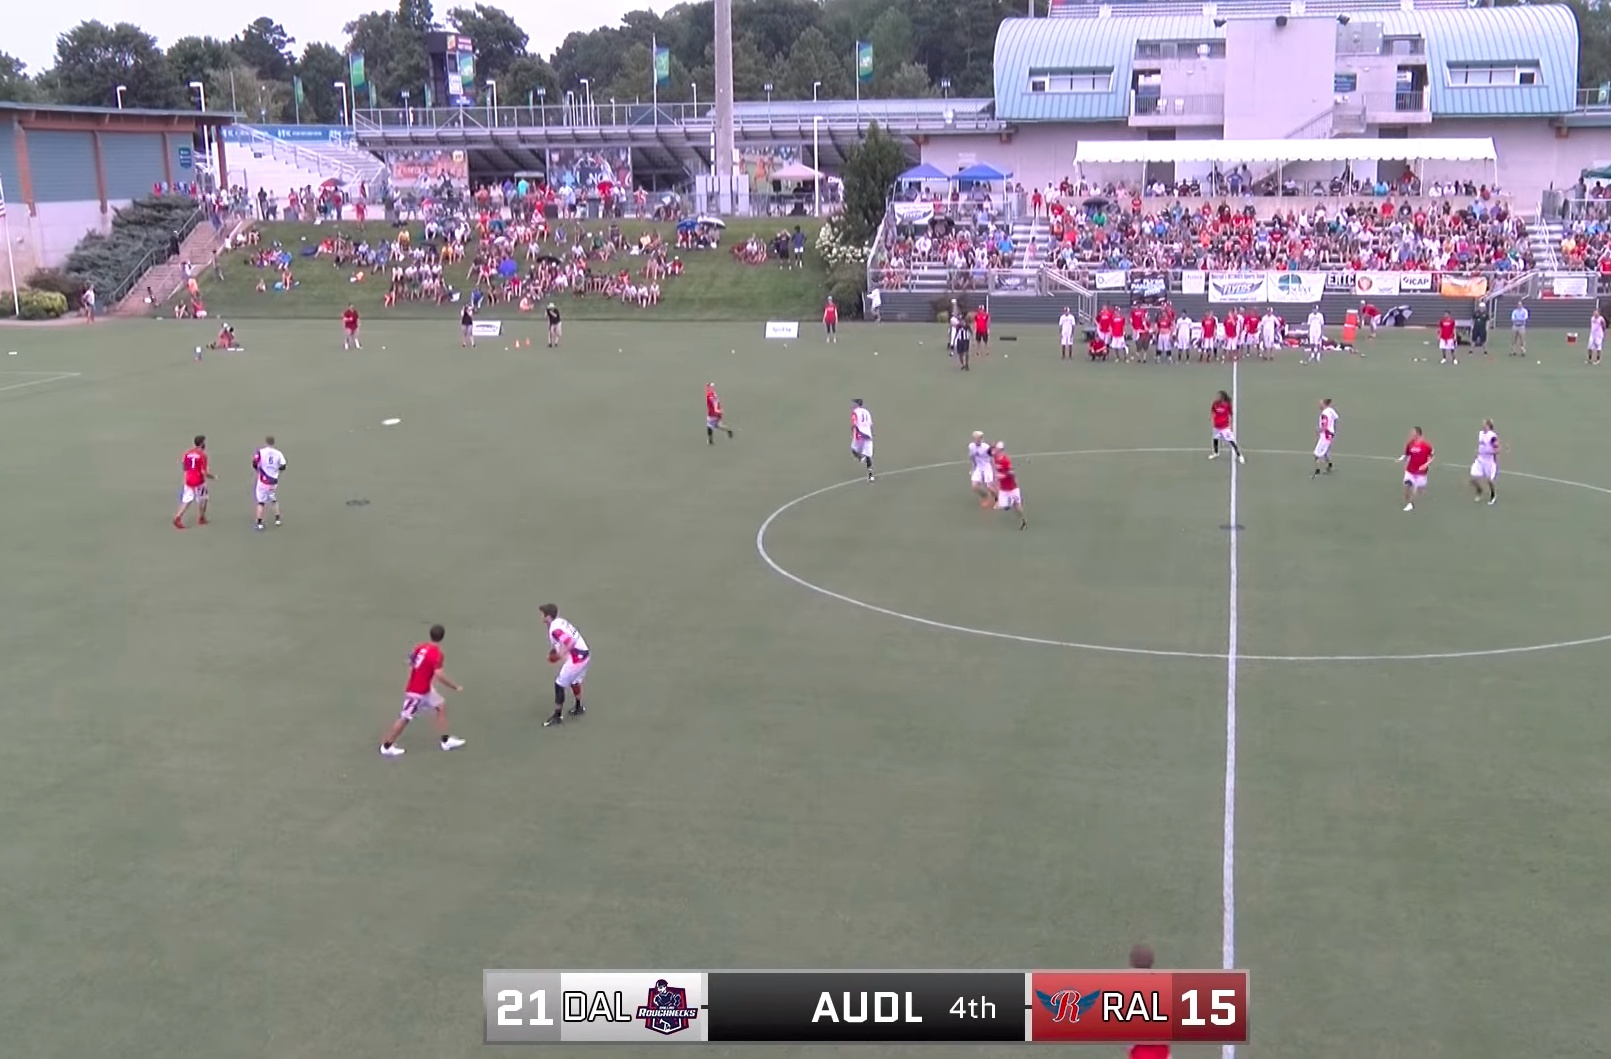frisbee: (382, 417, 401, 425)
